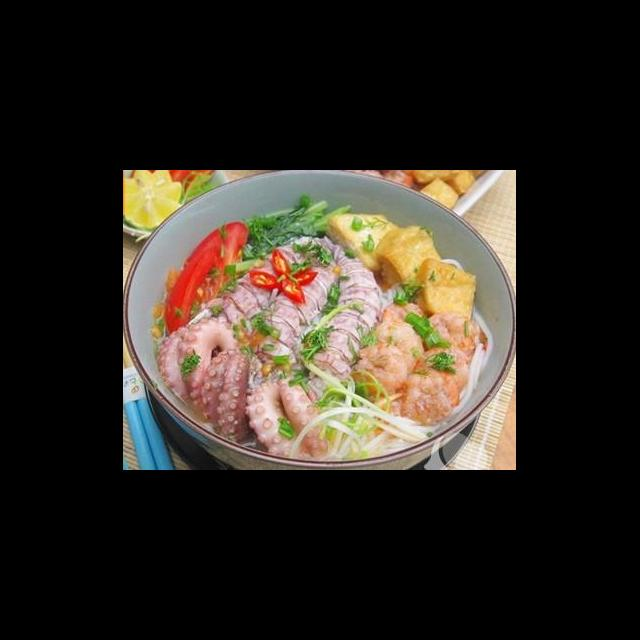dau hu: (322, 209, 402, 274), (408, 255, 479, 326), (372, 222, 444, 290), (414, 174, 462, 215)
muc: (152, 313, 332, 464)
tom tit: (182, 233, 324, 359), (243, 242, 344, 389), (298, 241, 388, 394)
